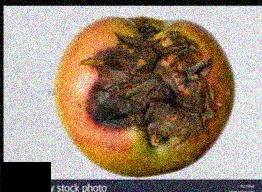rotten apple: (51, 6, 239, 177)
